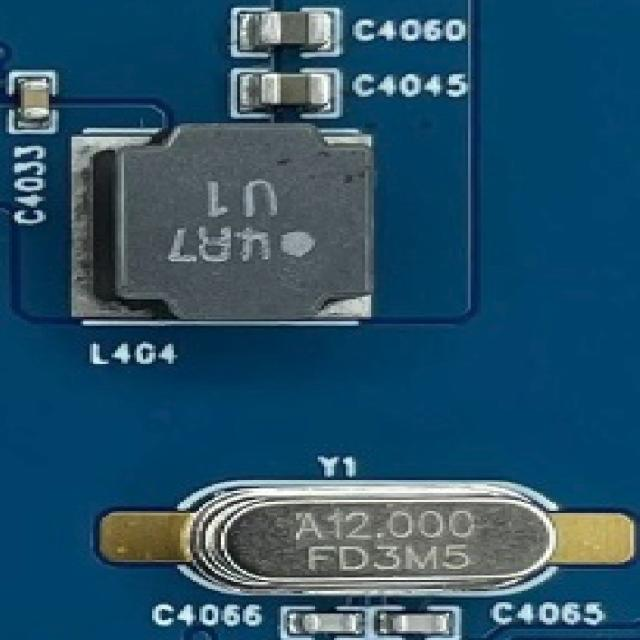capacitor 1V5: (243, 13, 343, 47), (249, 73, 340, 105), (381, 607, 454, 640), (290, 608, 368, 638), (20, 81, 54, 131)
clock Q1: (122, 481, 608, 588)
inductor F1: (88, 121, 369, 320)
